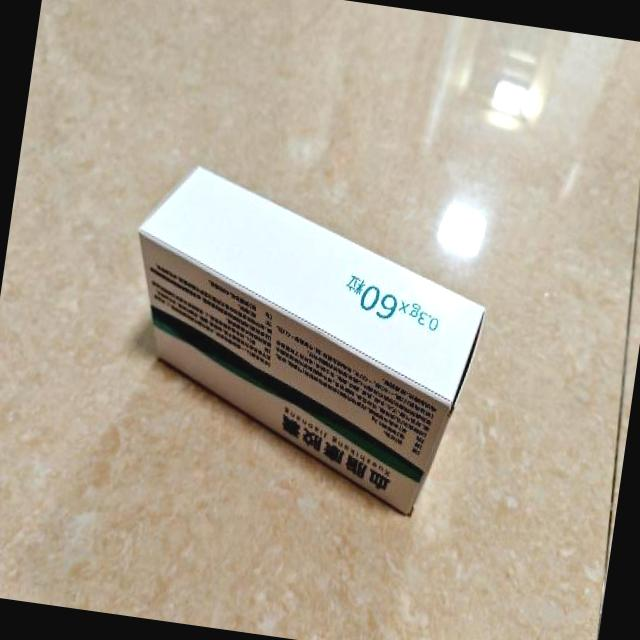box: (102, 158, 500, 526)
